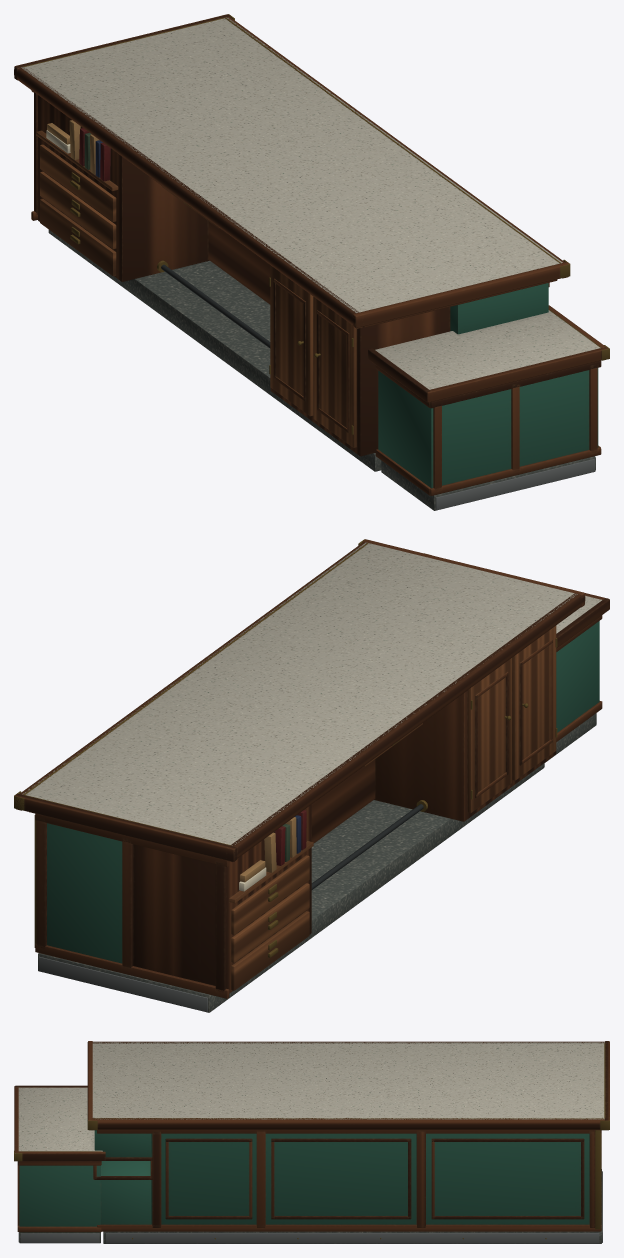
The model's file is CTCC_LOC02_ReceptionCounter.fbx.
3 renders of one model, top to bottom at view 1: azimuth 30°, elevation 25°; view 2: azimuth 150°, elevation 25°; view 3: azimuth 270°, elevation 25°, orthographic. The views are drawn at different scales.
Visible parts, largest first — view 1: CTCC_LOC02_ReceptionCounter_LOD0; view 2: CTCC_LOC02_ReceptionCounter_LOD0; view 3: CTCC_LOC02_ReceptionCounter_LOD0.
Part boxes in pixels (x1,y1,x2,y2): CTCC_LOC02_ReceptionCounter_LOD0: (14, 14, 609, 510); CTCC_LOC02_ReceptionCounter_LOD0: (14, 539, 609, 1012); CTCC_LOC02_ReceptionCounter_LOD0: (14, 1041, 609, 1243).
Size of what is drawn, in the model's own units: 1.49 by 1.13 by 4.69.
